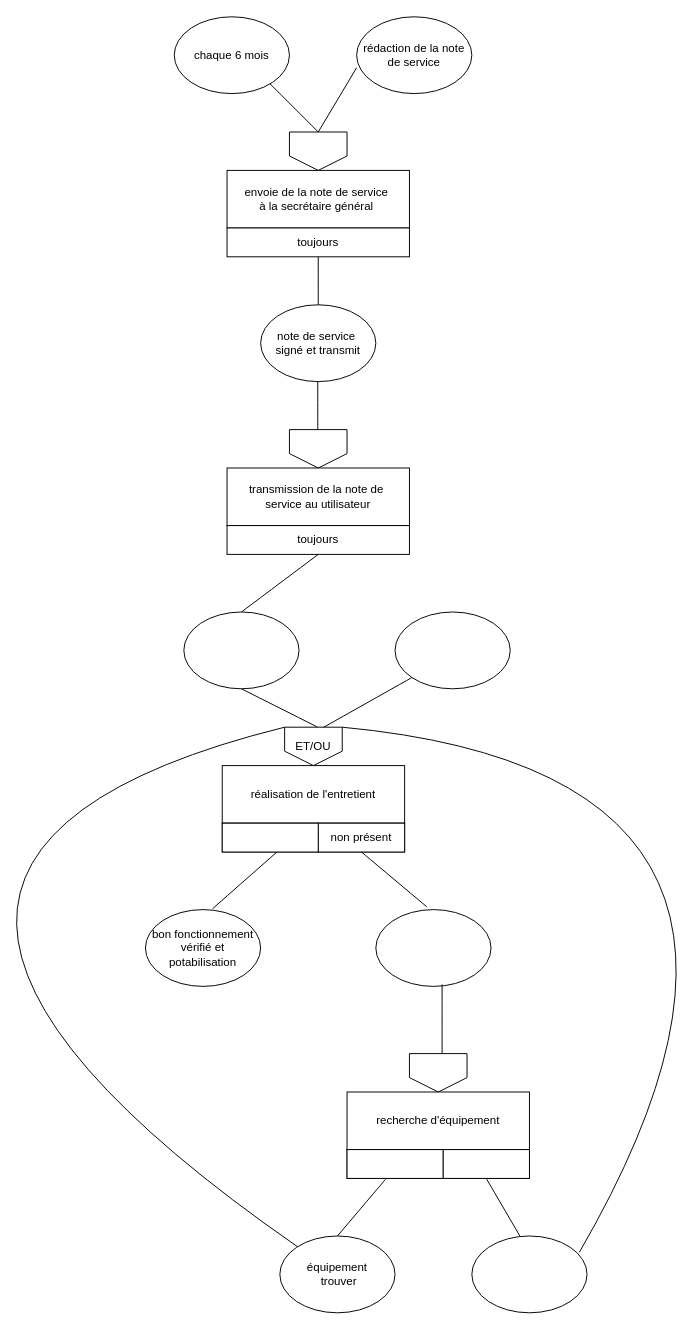
This 693x1330 diagram has some shape labels left out. The box of each missing label's shape, as (x1, y1, x2, y2) in pixels:
ET: (288, 131, 347, 170)
non trouver: (442, 1149, 529, 1178)
note de service transmit au utilisateur: (183, 611, 299, 689)
présent: (221, 822, 318, 852)
trouver: (346, 1149, 443, 1178)
équipe d'entretient mise en place: (394, 611, 510, 689)
équipement rechercher: (375, 909, 491, 986)
équipement remplacer: (471, 1235, 587, 1313)
